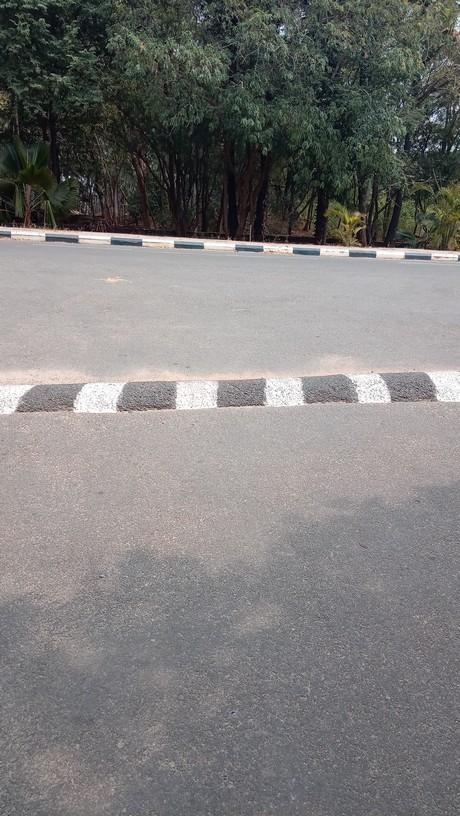speed-bump: (2, 368, 458, 414)
